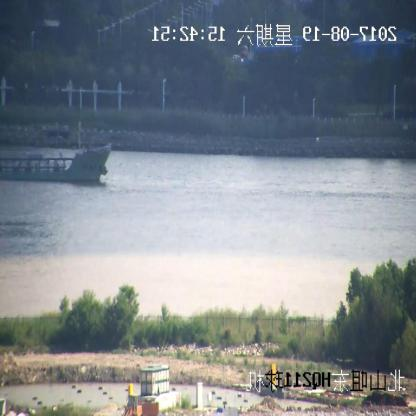Bulk Carrier: (1, 146, 110, 182)
